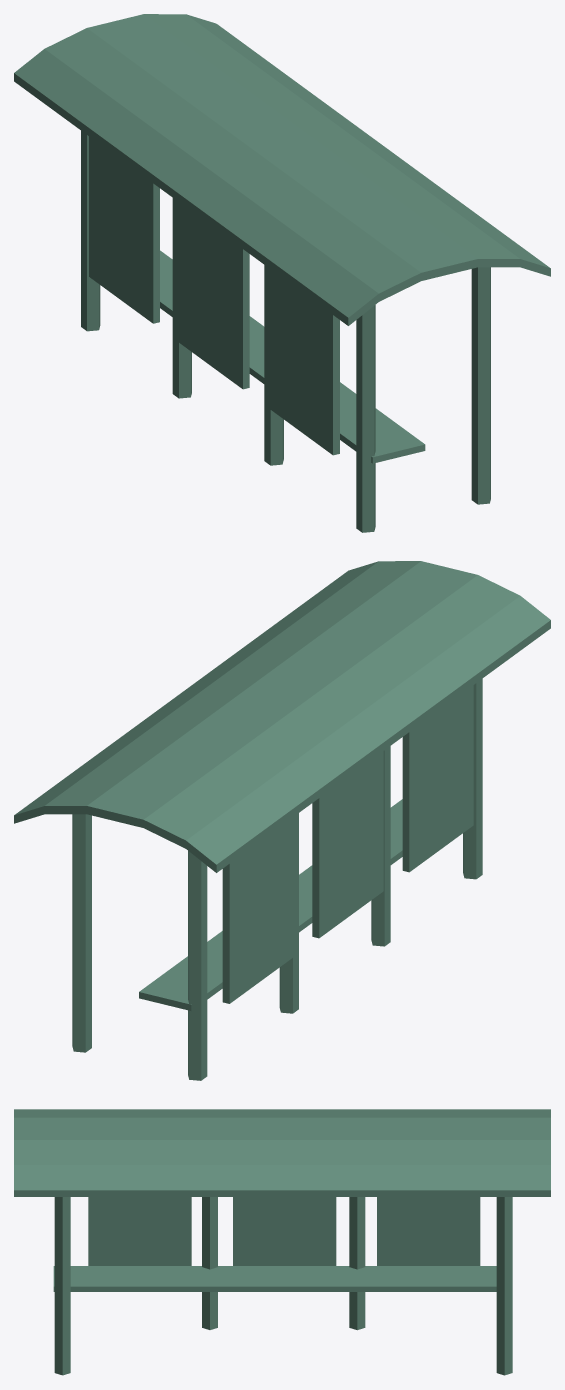
The model's file is bus_stop.fbx.
The picture shows the model from 3 angles, top to bottom: view 1: azimuth 30°, elevation 25°; view 2: azimuth 150°, elevation 25°; view 3: azimuth 270°, elevation 25°; orthographic projection. The views are drawn at different scales.
Visible parts, largest first — view 1: ceiling, ads1, ads2, ads, pole5, pole, pCube15, pole4, pole3, pole2; view 2: ceiling, ads1, ads, ads2, pole6, pole4, pCube15, pole, pole2, pole3; view 3: ceiling, pCube15, ads2, ads1, ads, pole6, pole5, pole3, pole2.
Part boxes in pixels (x1,y1,x2,y2): ceiling: [14, 14, 550, 325]; ads1: [178, 202, 249, 389]; ads2: [89, 136, 159, 323]; ads: [269, 268, 339, 455]; pole5: [471, 267, 490, 504]; pole: [356, 305, 375, 532]; pCube15: [160, 250, 425, 463]; pole4: [81, 131, 100, 331]; pole3: [172, 198, 191, 398]; pole2: [264, 265, 283, 465]; ceiling: [14, 561, 550, 872]; ads1: [312, 751, 383, 938]; ads: [402, 685, 473, 872]; ads2: [222, 817, 293, 1003]; pole6: [72, 814, 91, 1052]; pole4: [188, 851, 207, 1080]; pCube15: [139, 799, 402, 1010]; pole: [463, 678, 482, 879]; pole2: [371, 746, 390, 946]; pole3: [279, 813, 298, 1013]; ceiling: [14, 1109, 550, 1196]; pCube15: [53, 1266, 496, 1291]; ads2: [377, 1197, 480, 1265]; ads1: [233, 1197, 336, 1265]; ads: [88, 1197, 191, 1265]; pole6: [496, 1197, 512, 1375]; pole5: [54, 1197, 70, 1375]; pole3: [349, 1197, 365, 1330]; pole2: [202, 1197, 217, 1329].
Bounding box in the file's own units: 301 × 387 × 862.
